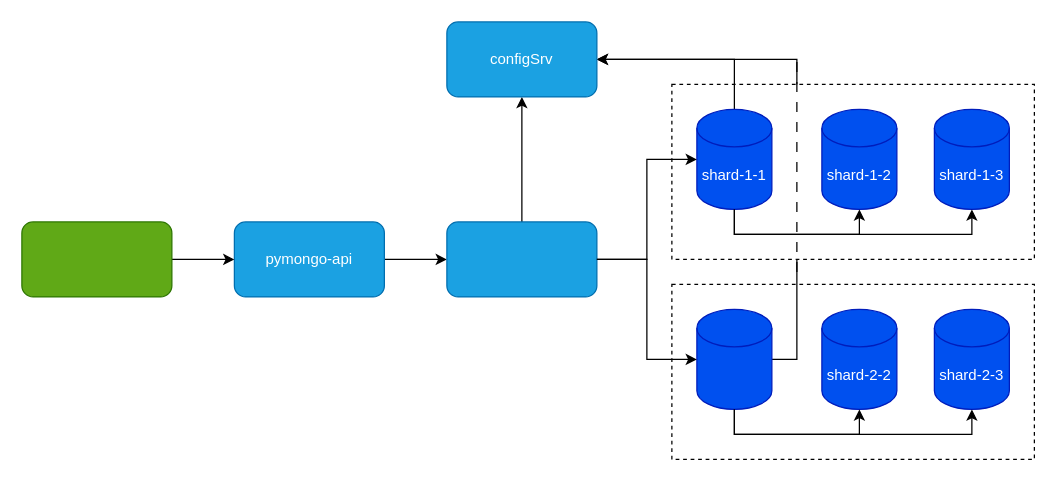
Image size: 1056x481. Some labels were removed from this diagram. The shapes that lost their labels are listed below. From the top down, each one's centre as x and y in pixels, then its label:
At (96,259): "Приложение".
At (521,259): "mongosRouter".
At (734,358): "shard-2-1".
